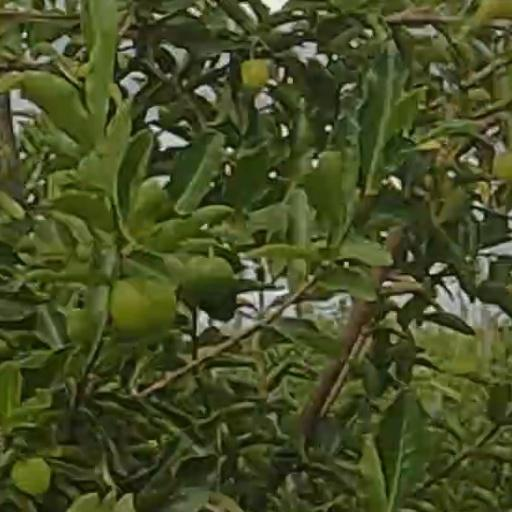acerola_verde: (114, 282, 176, 333), (185, 258, 232, 306)
